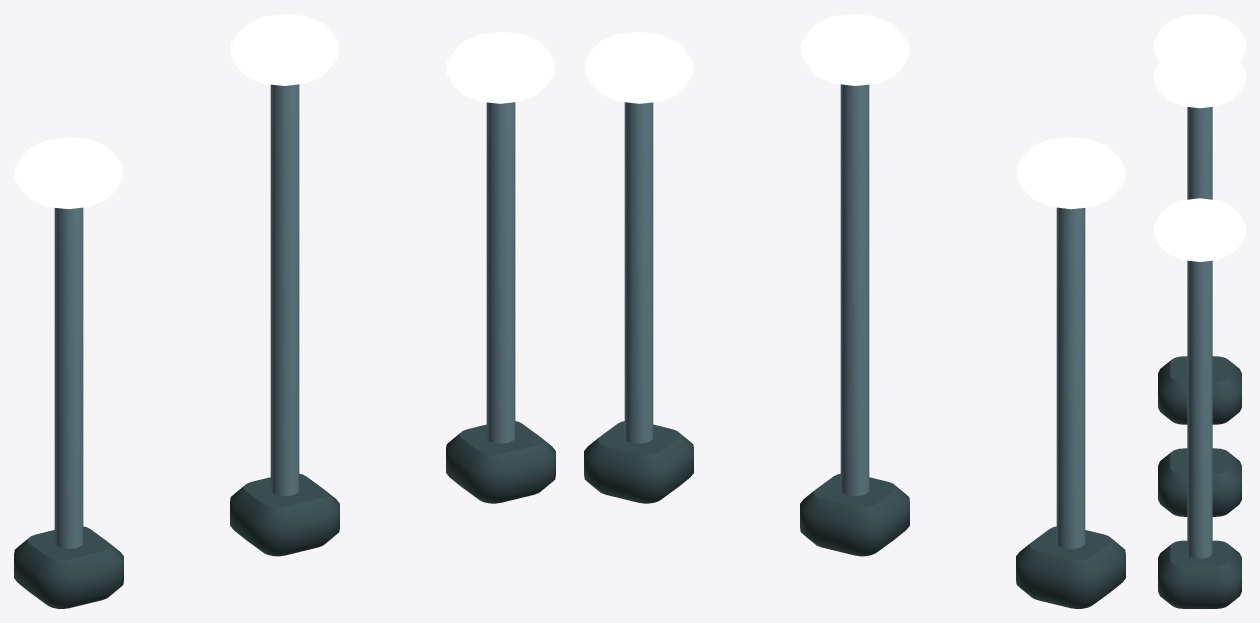
File: lights_1.glb
3 views of the same model, side by side, from view 1: azimuth 30°, elevation 25°; view 2: azimuth 150°, elevation 25°; view 3: azimuth 270°, elevation 25° (orthographic). The views are drawn at different scales.
Visible parts, largest first — view 1: Lights; view 2: Lights; view 3: Lights.
Boxes of the visible parts, x1,y1,x2,y2 form: Lights: (14, 14, 555, 608); Lights: (584, 14, 1125, 608); Lights: (1154, 14, 1245, 608).
Size of the model in its own units: 3.05 by 2.86 by 0.5265.
